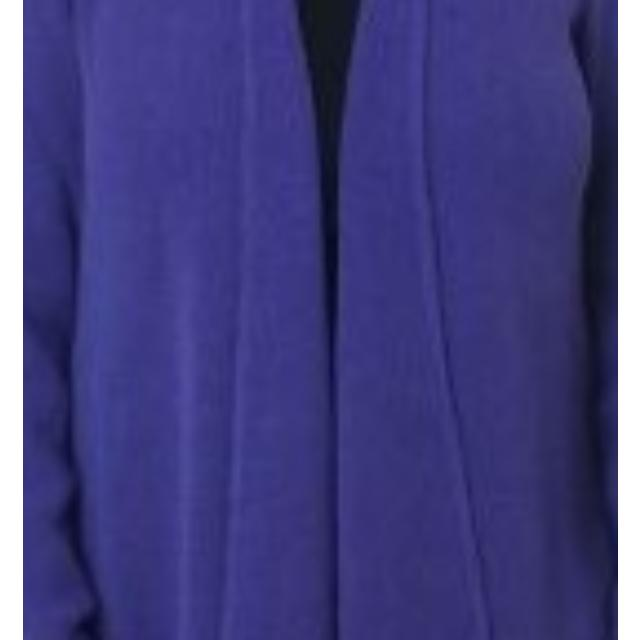wool: (22, 0, 618, 640)
